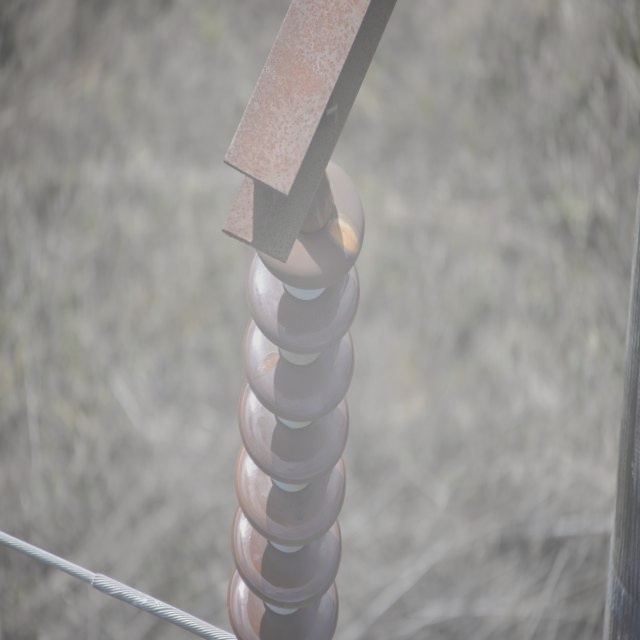insulator: (227, 156, 364, 640)
